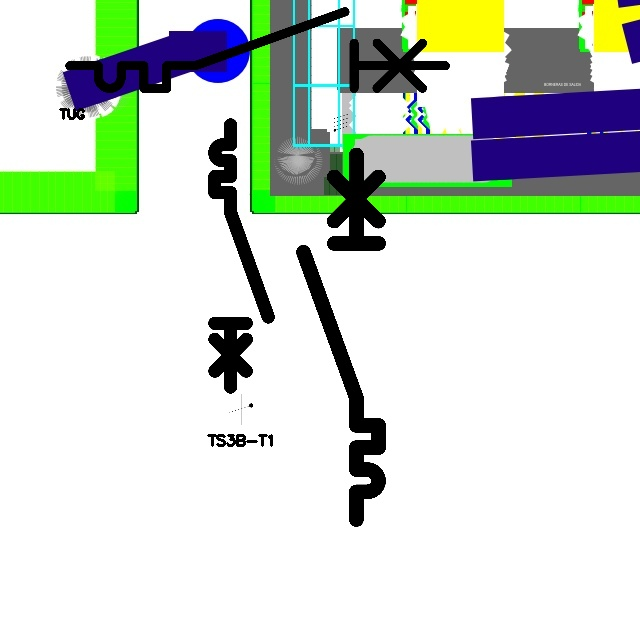interruptor_termomagnetico: (60, 2, 454, 98), (294, 145, 388, 529), (208, 118, 275, 394)
